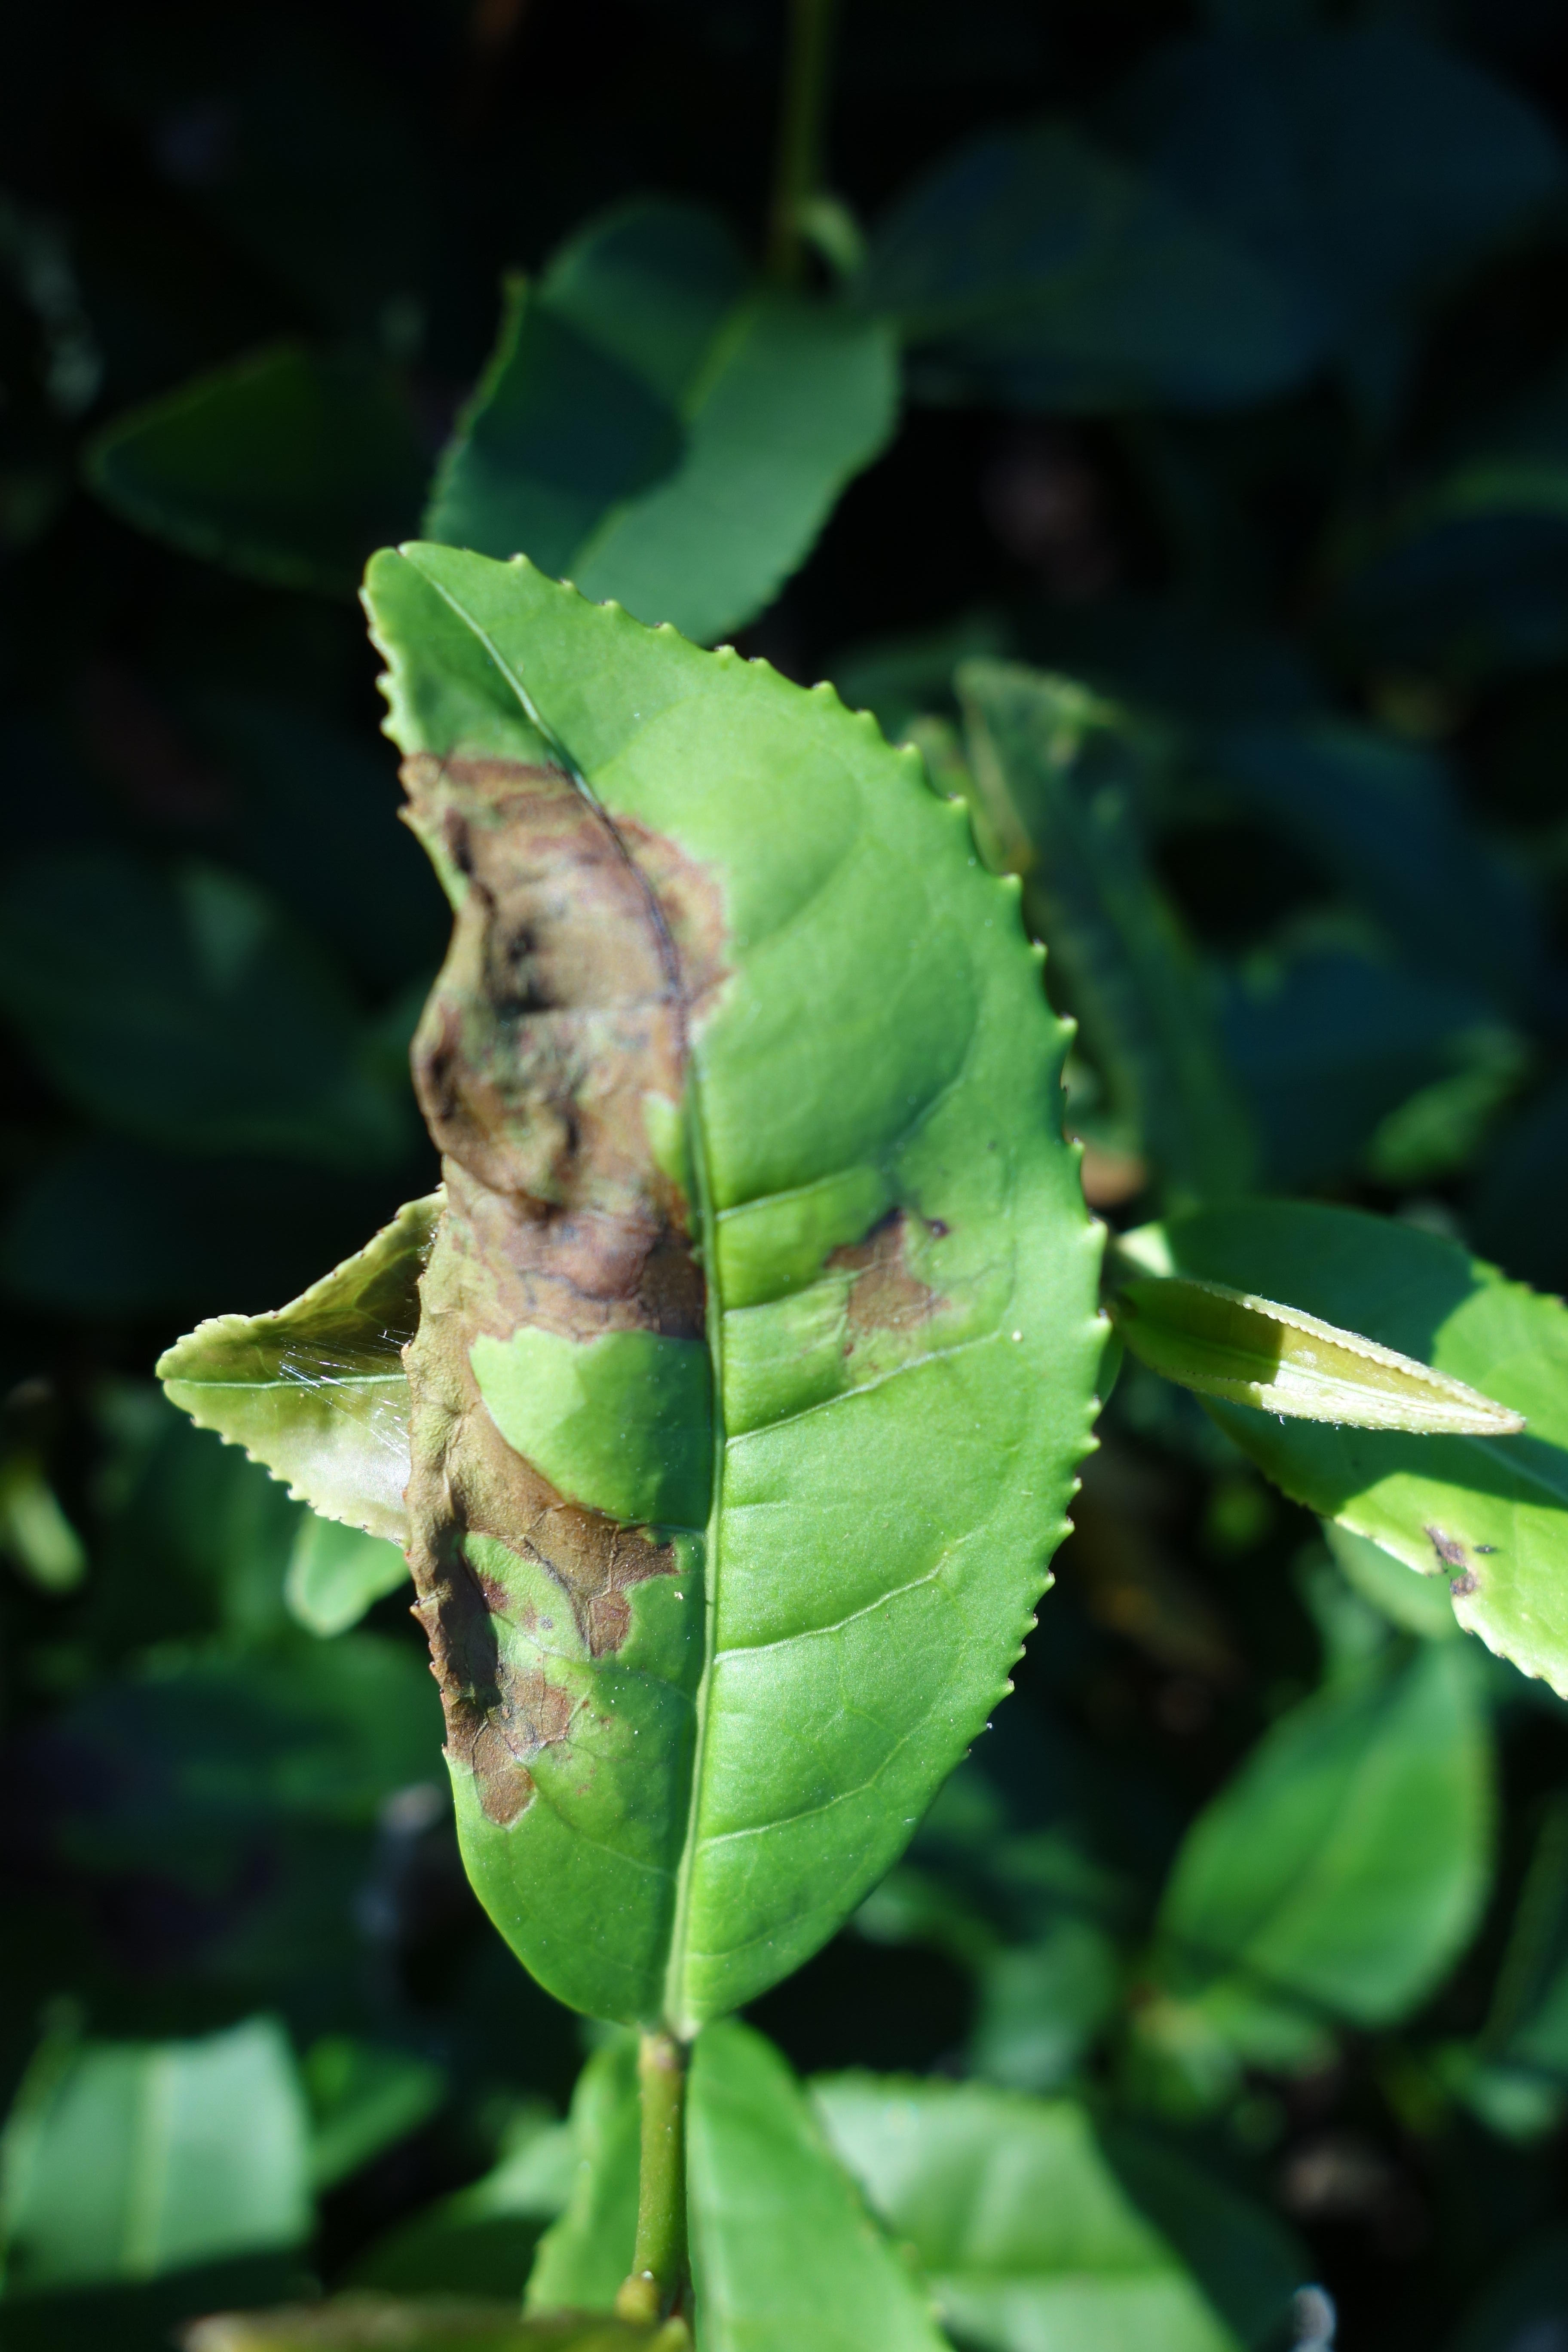tanju_high: (359, 541, 1123, 2044)
